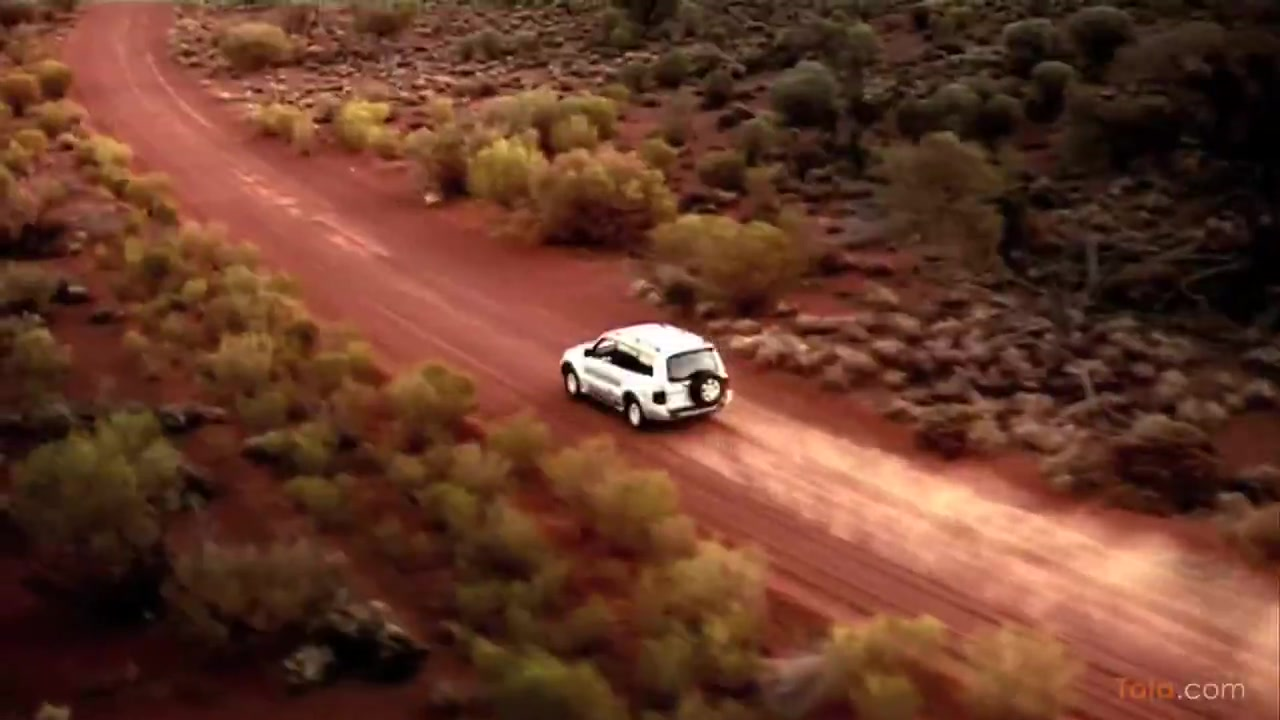car: (555, 316, 735, 430)
